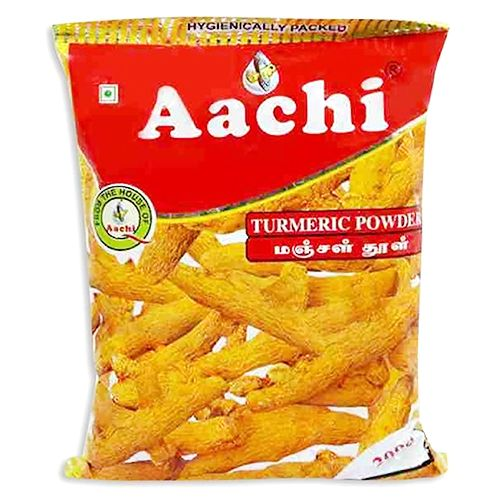VEG: (97, 82, 119, 104)
